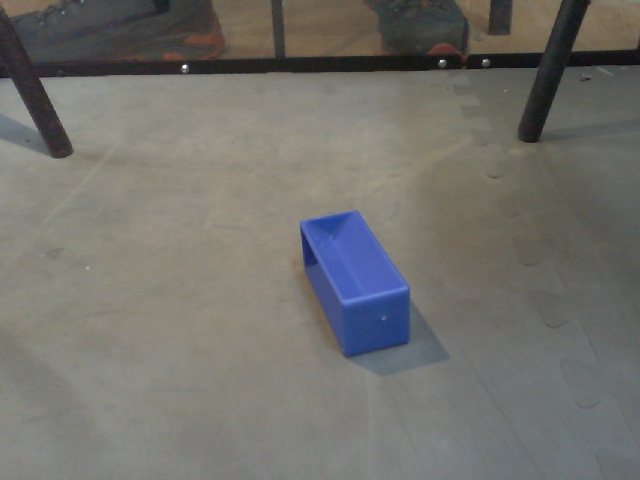BlueSample: (293, 205, 417, 362)
